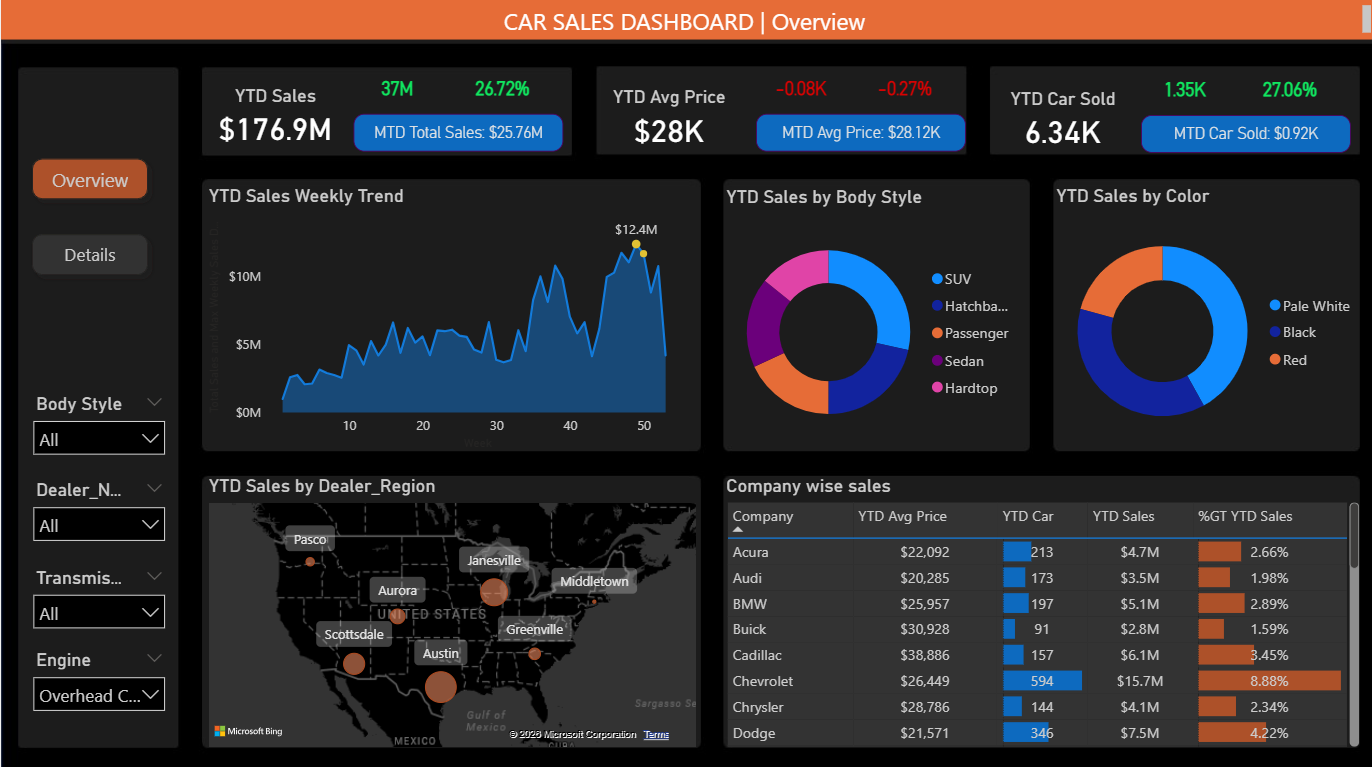

The page's visual inventory and layout, read from the dashboard file:
{"tool":"powerbi","page":{"name":"Overview","canvas":[1280,720],"ordinal":0},"visuals":[{"type":"card","title":"YTD Sales","fields":{"Values":["Measure_Tbl.YTD Sales"]},"box":[188.7,79.4,134,58.5],"z":0},{"type":"card","fields":{"Values":["Measure_Tbl.MTD_txt"]},"box":[327.9,105.4,195.2,35.1],"z":1000},{"type":"card","fields":{"Values":["Measure_Tbl.Diff as Prev Year"]},"box":[327.9,63.8,80.7,35.1],"z":2000},{"type":"card","fields":{"Values":["Measure_Tbl.YOY Total Sales %"]},"box":[425.5,63.8,80.7,35.1],"z":3000},{"type":"card","title":"YTD Avg Price","fields":{"Values":["Measure_Tbl.Avg Price YTD"]},"box":[554.3,80.7,134,58.5],"z":4000},{"type":"card","fields":{"Values":["Measure_Tbl.Avg Price Diff"]},"box":[703.9,63.8,80.7,35.1],"z":5000},{"type":"card","fields":{"Values":["Measure_Tbl.Avg YOY"]},"box":[800.2,63.8,80.7,35.1],"z":6000},{"type":"card","fields":{"Values":["Measure_Tbl.Avg MTD_txt"]},"box":[702.6,105.4,195.2,35.1],"z":7000},{"type":"card","title":"YTD Car Sold","fields":{"Values":["Measure_Tbl.YTD Car"]},"box":[921,81,134,58.5],"z":8000},{"type":"card","fields":{"Values":["Measure_Tbl.MTD_txt Car"]},"box":[1060.2,107.1,195.2,35.1],"z":9000},{"type":"card","fields":{"Values":["Measure_Tbl.Car Diff"]},"box":[1060.2,65.4,80.7,35.1],"z":10000},{"type":"card","fields":{"Values":["Measure_Tbl.YOY Car Sold %"]},"box":[1157.8,65.4,80.7,35.1],"z":11000},{"type":"lineChart","title":"YTD Sales Weekly Trend","fields":{"Category":["Calendar table.Week"],"Y":["Measure_Tbl.Total Sales","Measure_Tbl.Max Weekly Sales Data Point"]},"box":[188.1,172.5,452,251.6],"z":12000},{"type":"tableEx","title":"Company wise sales","fields":{"Values":["car_data.Company","Measure_Tbl.YTD Avg Price","Measure_Tbl.YTD Car","Measure_Tbl.YTD Sales","Divide(Measure_Tbl.YTD Sales, ScopedEval(Measure_Tbl.YTD Sales, []))"]},"box":[670.1,442.4,598.5,257.6],"z":13000},{"type":"donutChart","fields":{"Category":["car_data.Body Style"],"Y":["Measure_Tbl.YTD Sales"]},"box":[670.1,173,282.3,251.1],"z":14000},{"type":"donutChart","fields":{"Category":["car_data.Color"],"Y":["Measure_Tbl.YTD Sales"]},"box":[976.3,172.5,292.8,251.6],"z":15000},{"type":"map","fields":{"Category":["car_data.Dealer_Region"],"Size":["Measure_Tbl.YTD Sales"]},"box":[188.7,442.4,463.2,257.6],"z":16000},{"type":"textbox","box":[0,0,1279.8,36.8],"z":17000},{"type":"slicer","fields":{"Values":["car_data.Body Style"]},"box":[19.5,360.4,143.1,70.3],"z":18000},{"type":"slicer","fields":{"Values":["car_data.Dealer_Name"]},"box":[19.5,441.1,143.1,70.3],"z":19000},{"type":"slicer","fields":{"Values":["car_data.Transmission"]},"box":[19.5,521.7,143.1,70.3],"z":20000},{"type":"slicer","fields":{"Values":["car_data.Engine"]},"box":[19.5,598.5,143.1,70.3],"z":21000},{"type":"pageNavigator","box":[19.6,138.7,126.4,126.4],"z":22000}]}

Visuals, with their boxes in screenshot pixels (x1, y1, x2, y2), scaled from the page's 1280x720 canvas onto the 1372x767 screenshot:
"YTD Sales" card: x1=202, y1=85, x2=346, y2=147
card - Measure_Tbl.MTD_txt: x1=351, y1=112, x2=561, y2=150
card - Measure_Tbl.Diff as Prev Year: x1=351, y1=68, x2=438, y2=105
card - Measure_Tbl.YOY Total Sales %: x1=456, y1=68, x2=543, y2=105
"YTD Avg Price" card: x1=594, y1=86, x2=738, y2=148
card - Measure_Tbl.Avg Price Diff: x1=754, y1=68, x2=841, y2=105
card - Measure_Tbl.Avg YOY: x1=858, y1=68, x2=944, y2=105
card - Measure_Tbl.Avg MTD_txt: x1=753, y1=112, x2=962, y2=150
"YTD Car Sold" card: x1=987, y1=86, x2=1131, y2=149
card - Measure_Tbl.MTD_txt Car: x1=1136, y1=114, x2=1346, y2=151
card - Measure_Tbl.Car Diff: x1=1136, y1=70, x2=1223, y2=107
card - Measure_Tbl.YOY Car Sold %: x1=1241, y1=70, x2=1328, y2=107
"YTD Sales Weekly Trend" lineChart: x1=202, y1=184, x2=686, y2=452
"Company wise sales" tableEx: x1=718, y1=471, x2=1360, y2=746
donutChart - car_data.Body Style x Measure_Tbl.YTD Sales: x1=718, y1=184, x2=1021, y2=452
donutChart - car_data.Color x Measure_Tbl.YTD Sales: x1=1046, y1=184, x2=1360, y2=452
map - car_data.Dealer_Region x Measure_Tbl.YTD Sales: x1=202, y1=471, x2=699, y2=746
textbox: x1=0, y1=0, x2=1371, y2=39
slicer - car_data.Body Style: x1=21, y1=384, x2=174, y2=459
slicer - car_data.Dealer_Name: x1=21, y1=470, x2=174, y2=545
slicer - car_data.Transmission: x1=21, y1=556, x2=174, y2=631
slicer - car_data.Engine: x1=21, y1=638, x2=174, y2=712
pageNavigator: x1=21, y1=148, x2=156, y2=282
